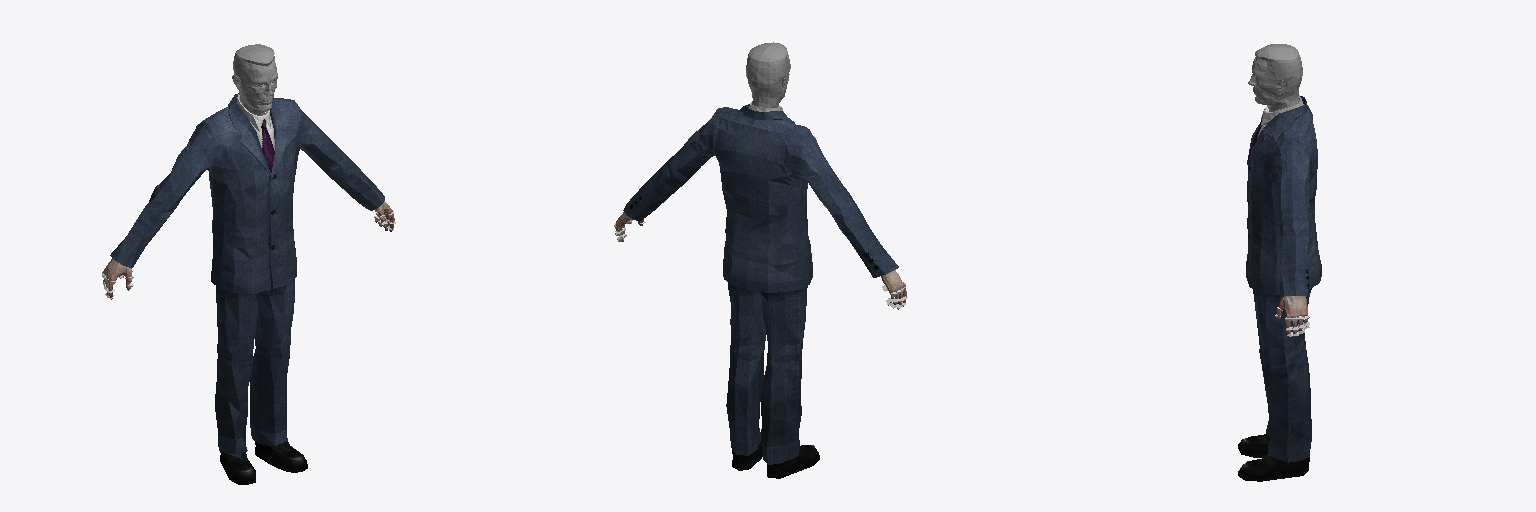
3 views of the same model, side by side, from view 1: azimuth 30°, elevation 25°; view 2: azimuth 150°, elevation 25°; view 3: azimuth 270°, elevation 25° (orthographic).
Parts seen in each view (by area): view 1: (null); view 2: (null); view 3: (null).
Boxes of the visible parts, box(x1,y1,x2,y2) form: (null): box(102, 44, 395, 484); (null): box(614, 42, 907, 478); (null): box(1238, 44, 1321, 481).
Bounding box in the file's own units: 52.94 × 73.15 × 13.29.
Materials: 7 (6 with a texture image).